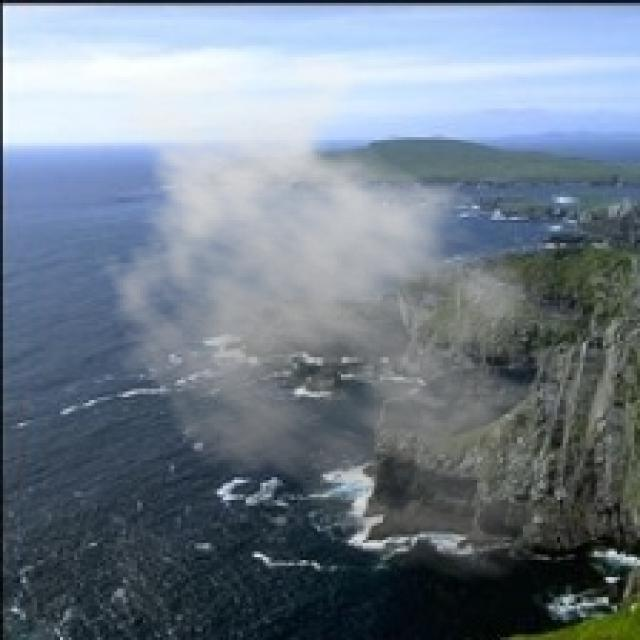Smoke: (83, 51, 623, 586)
